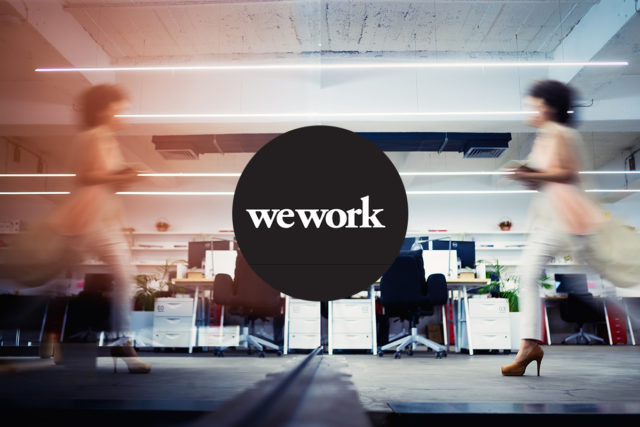wework: (244, 193, 387, 231)
